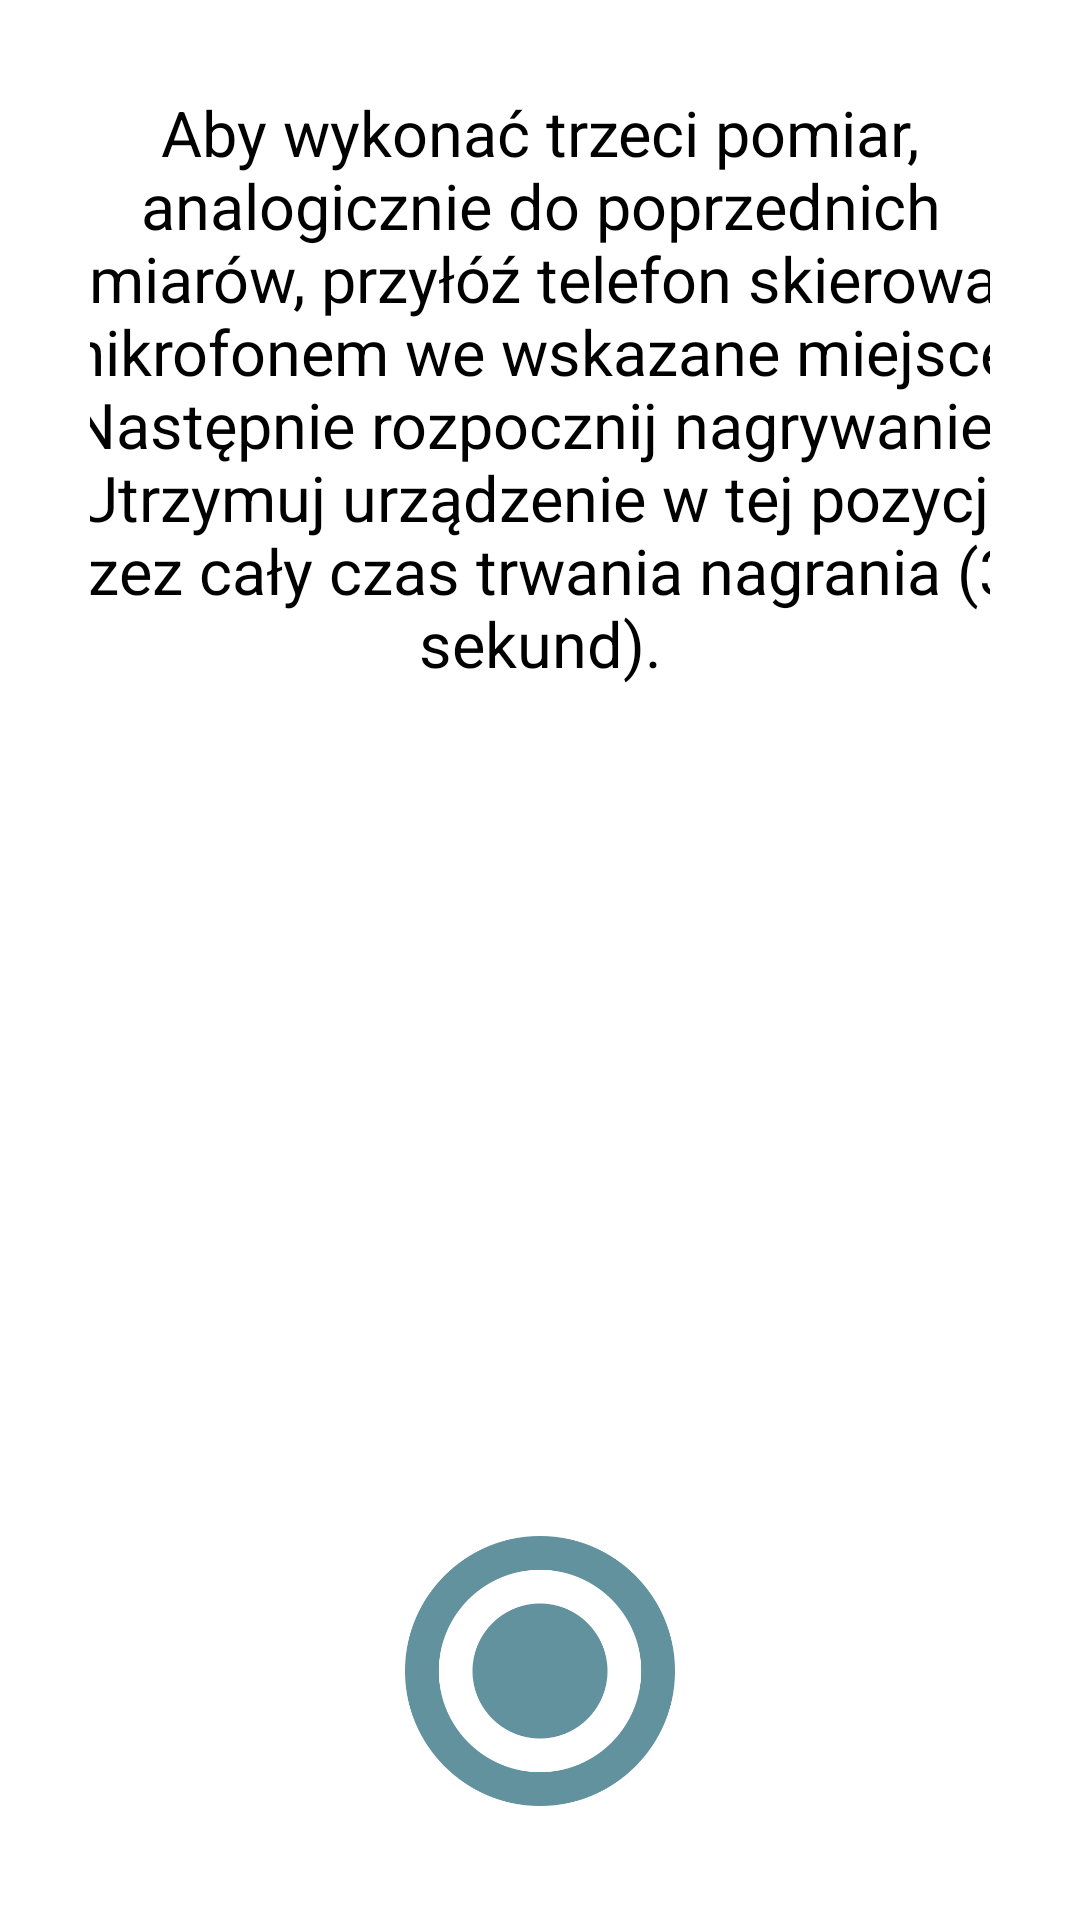

Where icons sit on this 1080 × 1920 app screen, as (x1, y1, x2, y2):
record: (405, 1536, 675, 1806)
